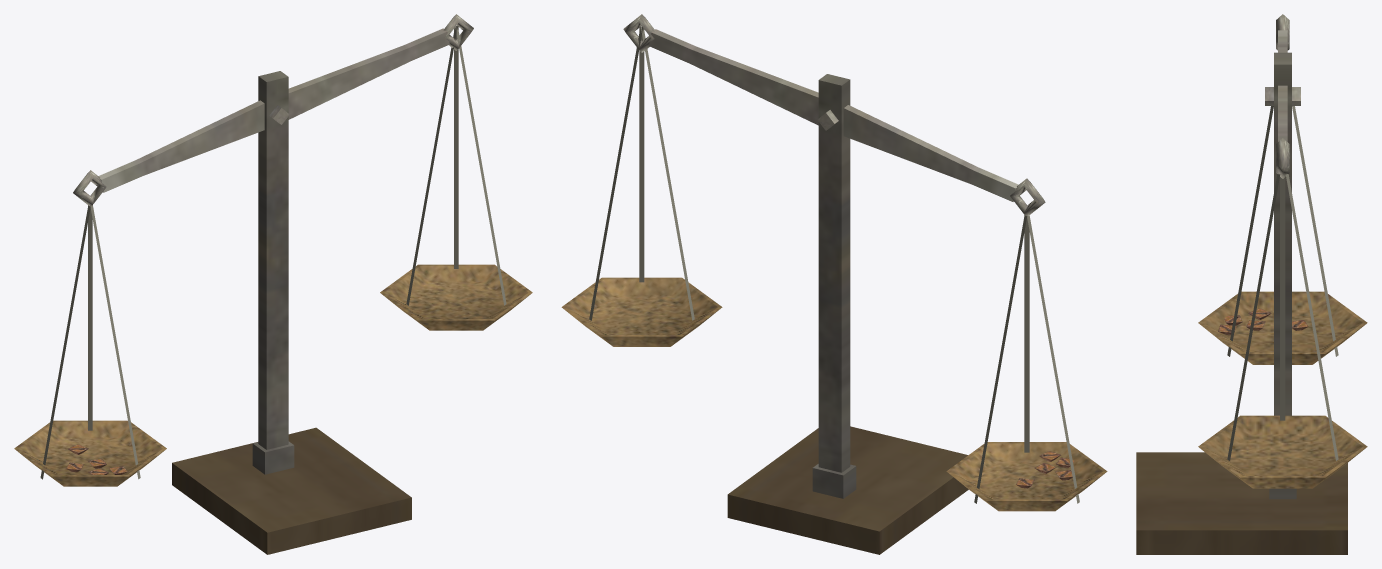
File: balance-scale.glb
The picture shows the model from 3 angles, left to right: view 1: azimuth 30°, elevation 25°; view 2: azimuth 150°, elevation 25°; view 3: azimuth 270°, elevation 25°; orthographic projection. The views are drawn at different scales.
Parts seen in each view (by area): view 1: balance-scale; view 2: balance-scale; view 3: balance-scale.
Part boxes in pixels (x1,y1,x2,y2): balance-scale: (14,14,532,554); balance-scale: (561,14,1107,554); balance-scale: (1136,14,1367,554).
Size of the model in its own units: 0.226 by 0.1934 by 0.0851.
5 materials, 5 textured.
